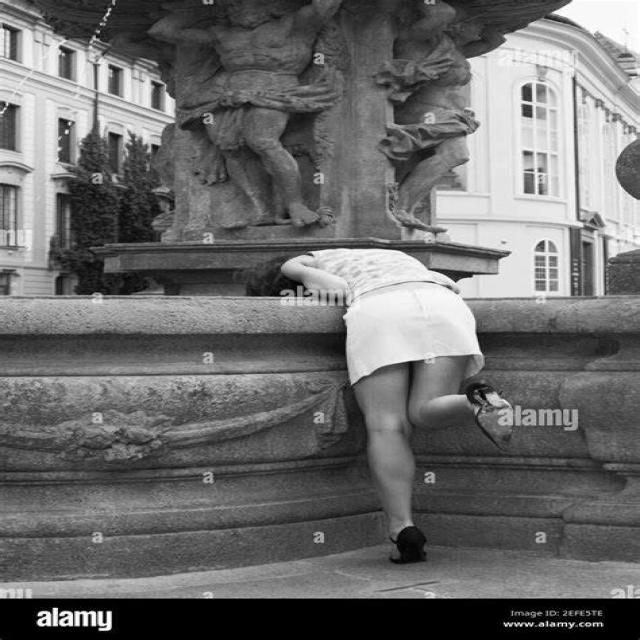stand: (254, 194, 537, 565)
